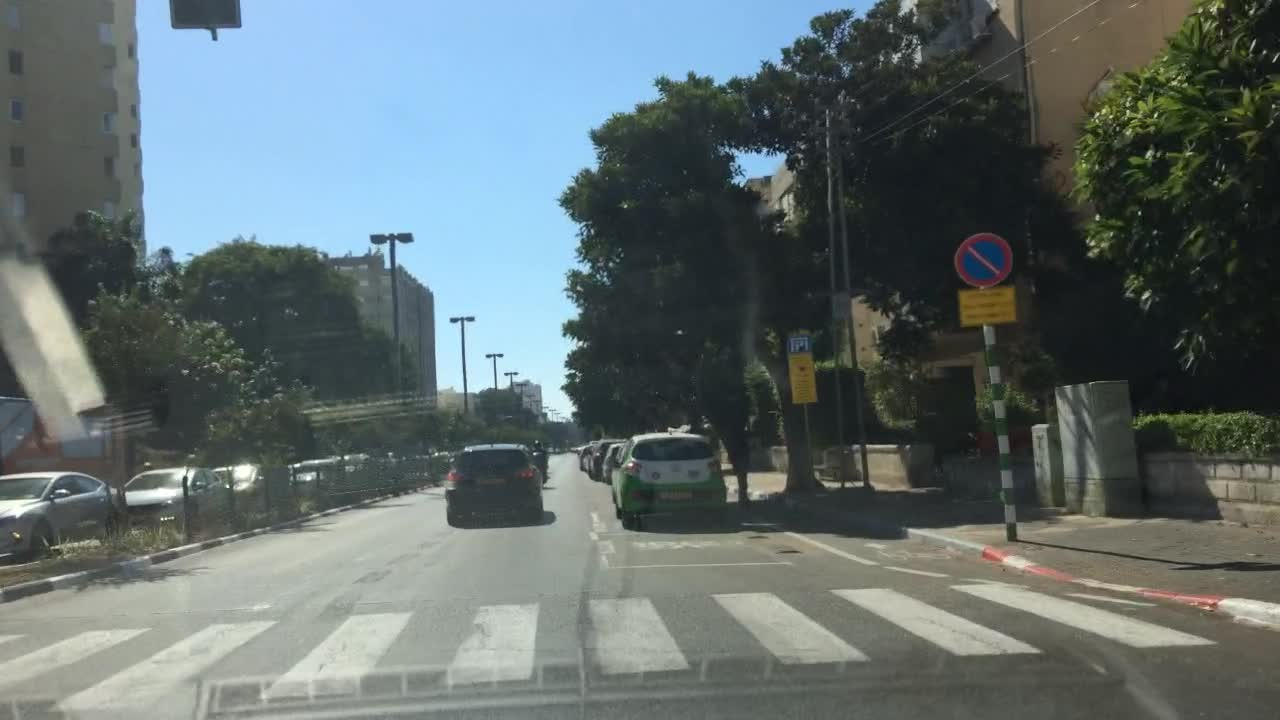car: (609, 430, 726, 531), (0, 469, 123, 560), (443, 440, 543, 526), (120, 463, 231, 525), (211, 462, 302, 517), (294, 458, 340, 499), (590, 437, 627, 480), (320, 452, 357, 492), (600, 441, 633, 483), (341, 453, 378, 485), (400, 453, 426, 478), (585, 437, 601, 474), (376, 454, 399, 479), (425, 451, 450, 469), (581, 439, 593, 469), (578, 441, 588, 469), (571, 444, 582, 453)
motor: (536, 460, 551, 483)
rider: (531, 438, 550, 468)
traffic sign: (950, 232, 1013, 287), (783, 336, 817, 404), (960, 286, 1015, 325)
